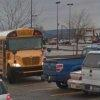Bus: (1, 22, 45, 86)
